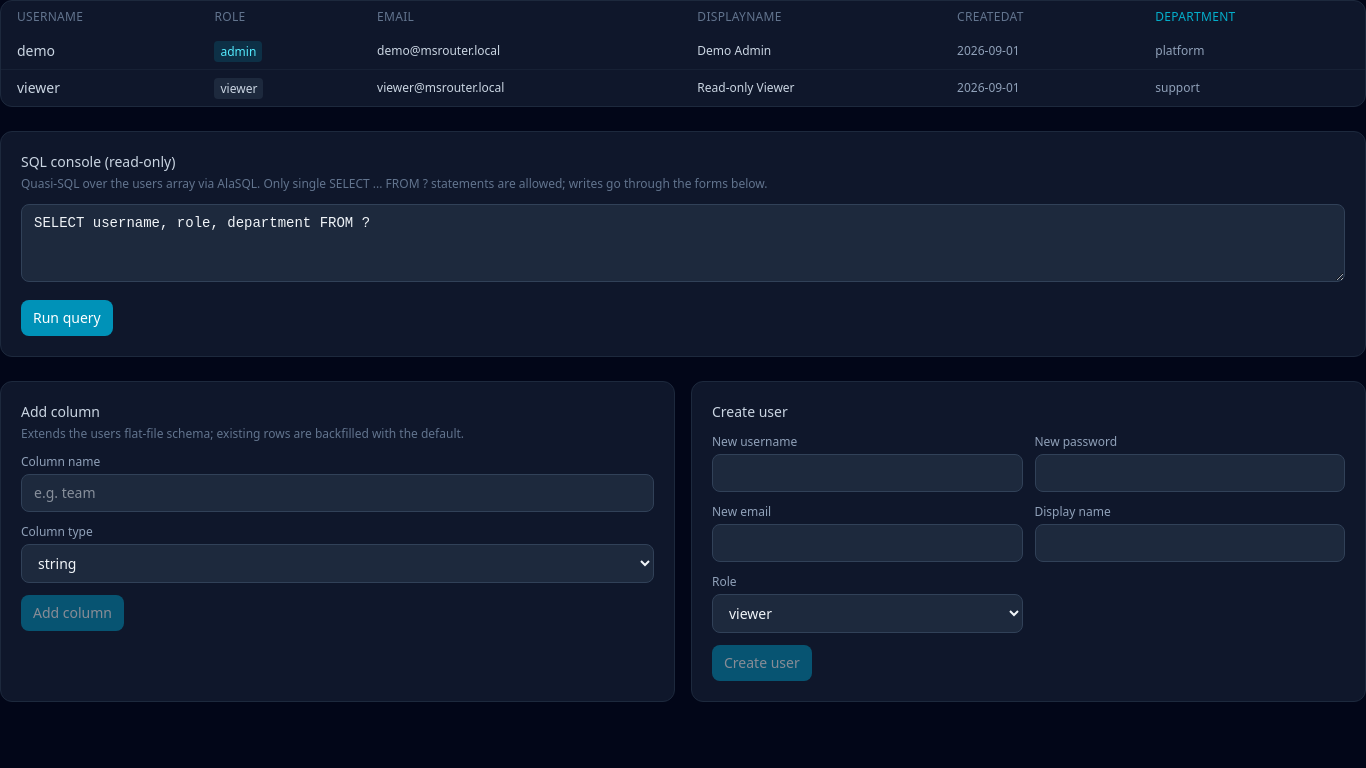
Test case: SQL console › runs a query and renders the result table
Check: the text "demo" is shown, box [1,33,198,70]
Replace the text in the text box named "sql query" with "SELECT username, department FROM ?" at (683, 243), box [21,204,1345,282]
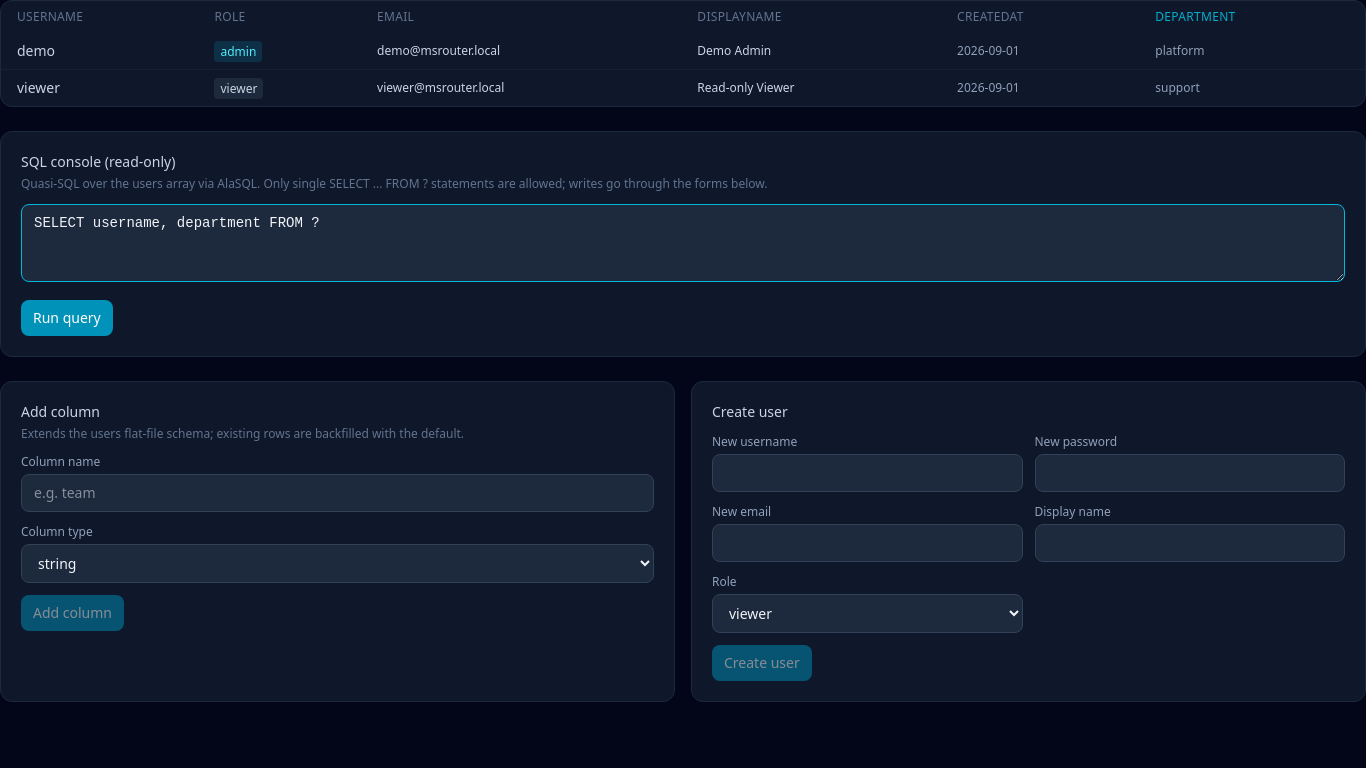
Click the button "Run query" at (67, 318), box [21,300,113,336]
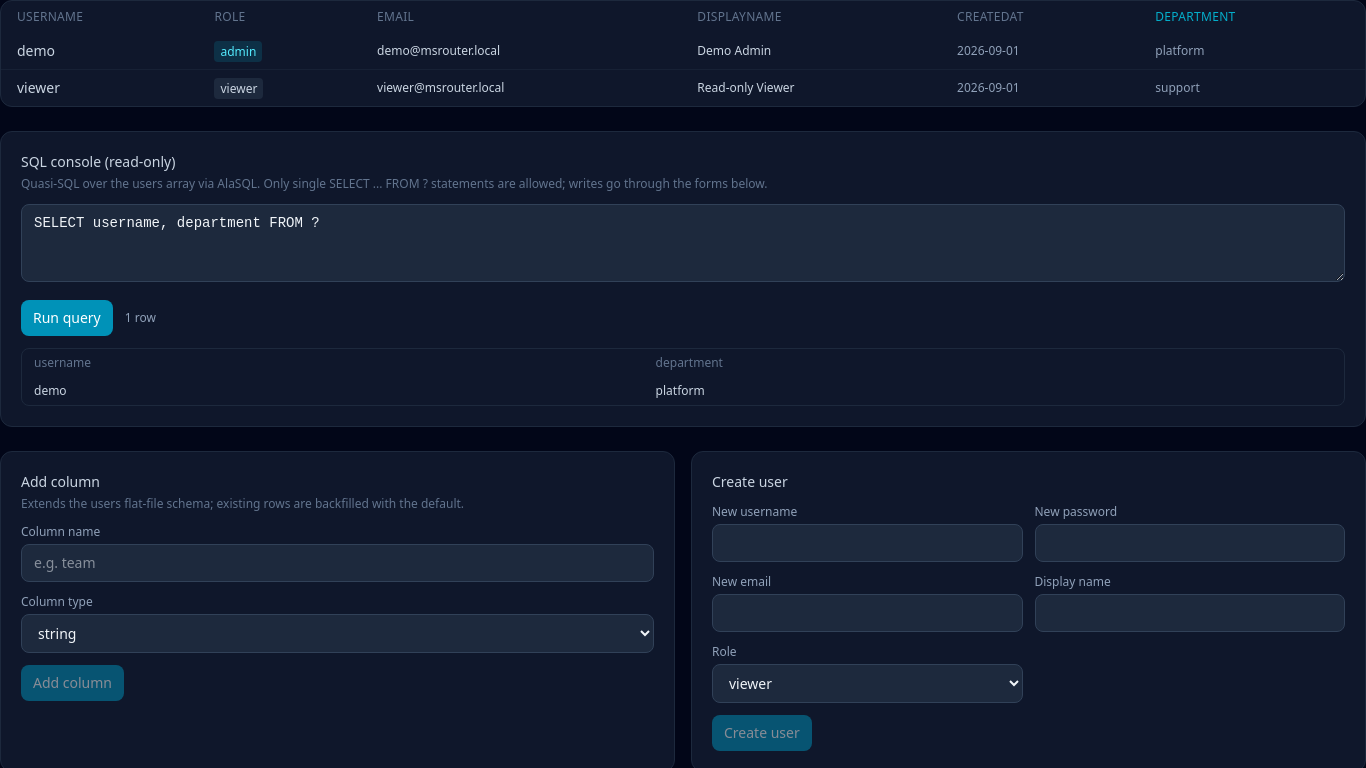
Check: the text "platform" in the row of "demo@msrouter.local" is shown, box [1155,42,1204,59]
Check: the text "1 row" is shown, box [125,310,156,326]
